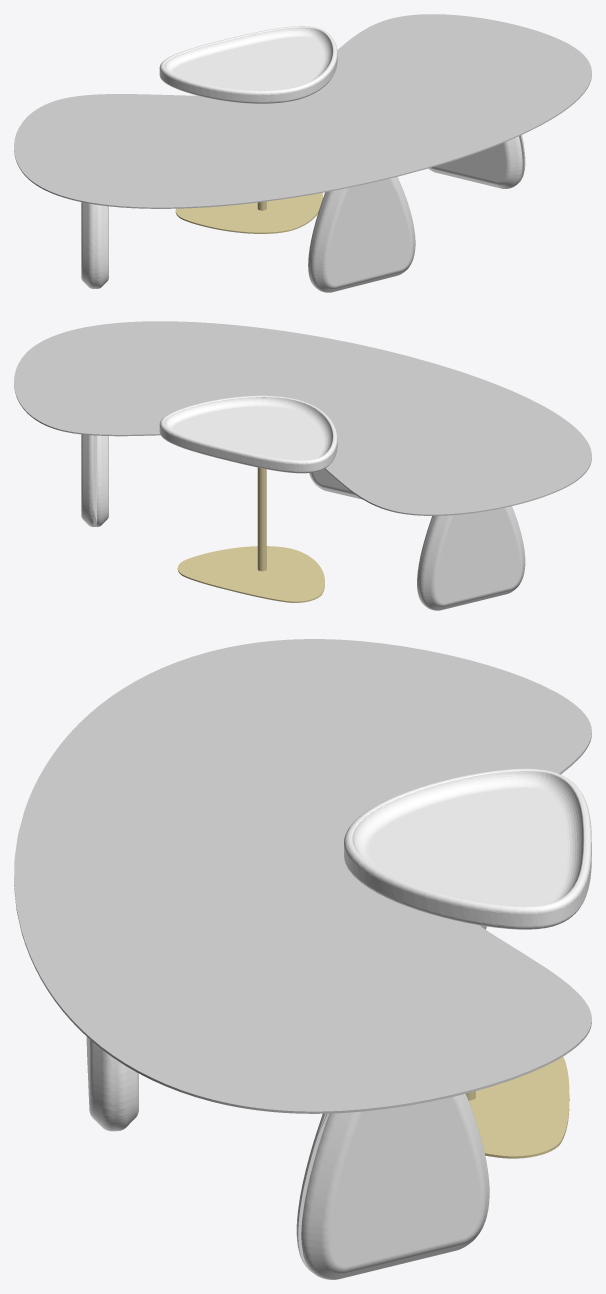
The model's file is mesa-centro-jaspe.glb.
The picture shows the model from 3 angles, top to bottom: view 1: azimuth 30°, elevation 25°; view 2: azimuth 150°, elevation 25°; view 3: azimuth 270°, elevation 25°; orthographic projection. The views are drawn at different scales.
Parts seen in each view (by area): view 1: 3DGeom-1, 3DGeom-3, 3DGeom-2; view 2: 3DGeom-1, 3DGeom-3, 3DGeom-2; view 3: 3DGeom-1, 3DGeom-3, 3DGeom-2.
Part boxes in pixels (x1,y1,x2,y2): 3DGeom-1: [14, 14, 591, 208]; 3DGeom-3: [81, 26, 525, 292]; 3DGeom-2: [175, 193, 322, 233]; 3DGeom-1: [14, 321, 591, 515]; 3DGeom-3: [81, 395, 525, 610]; 3DGeom-2: [177, 467, 324, 602]; 3DGeom-1: [14, 639, 591, 1113]; 3DGeom-3: [86, 768, 591, 1279]; 3DGeom-2: [466, 1056, 569, 1158].
Bounding box in the file's own units: 1.35 × 0.3501 × 0.7004.
